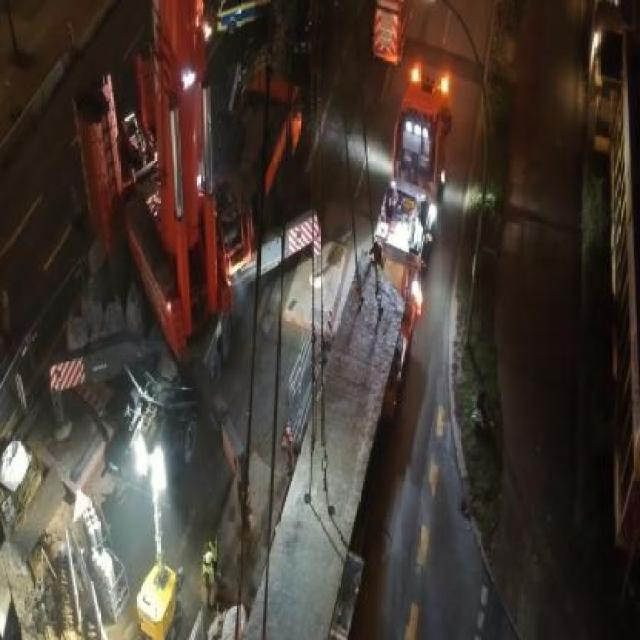Mobile Crane: (49, 0, 323, 545)
